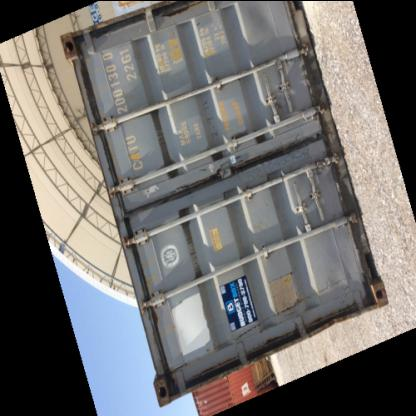Damage: (152, 354, 246, 408), (236, 296, 304, 340), (310, 289, 376, 333), (234, 140, 314, 172), (60, 20, 110, 54), (144, 308, 158, 325)
